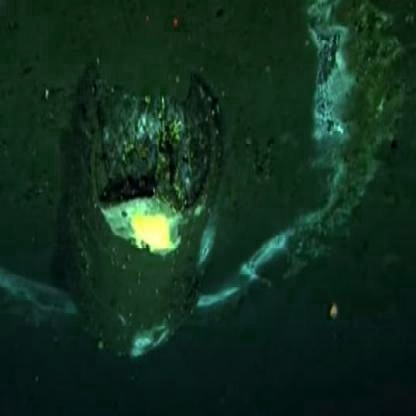misc: (63, 74, 220, 359)
